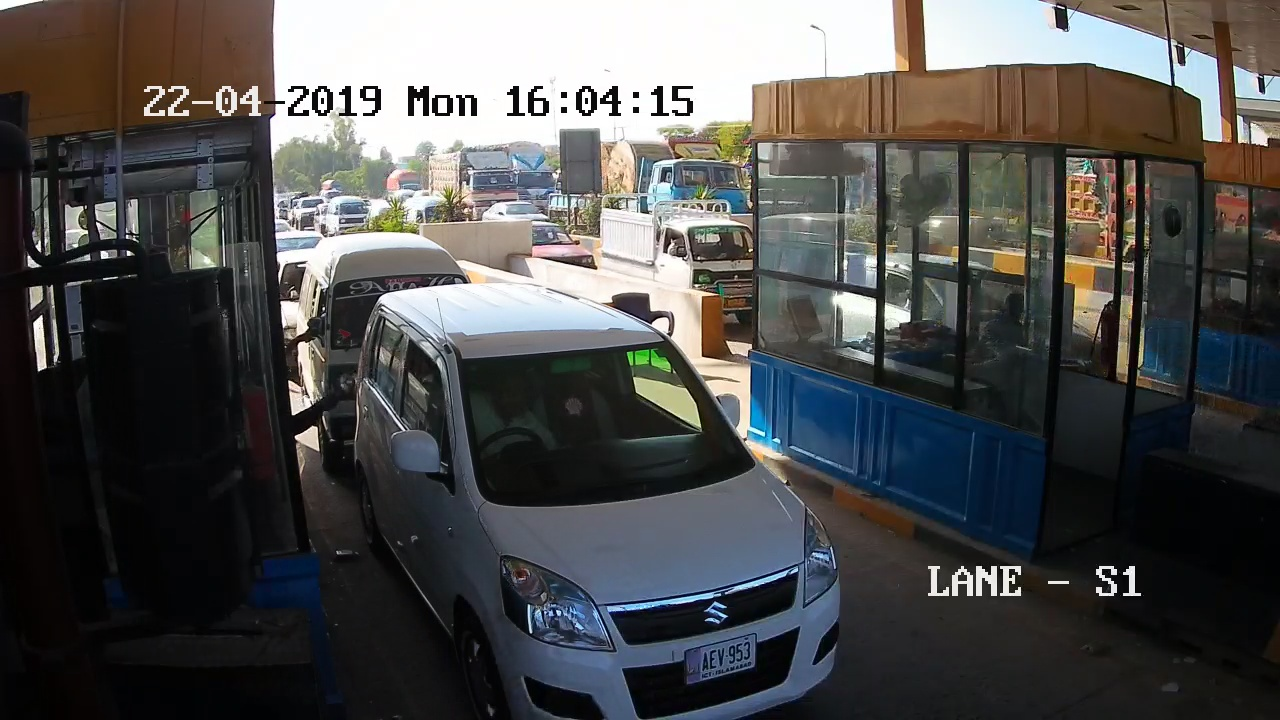Number Plate (Car): (684, 638, 761, 680)
